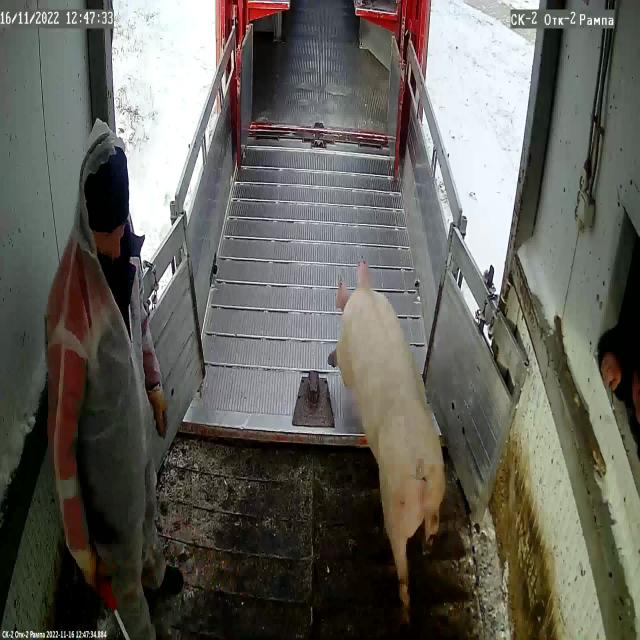pig: (328, 261, 446, 622)
